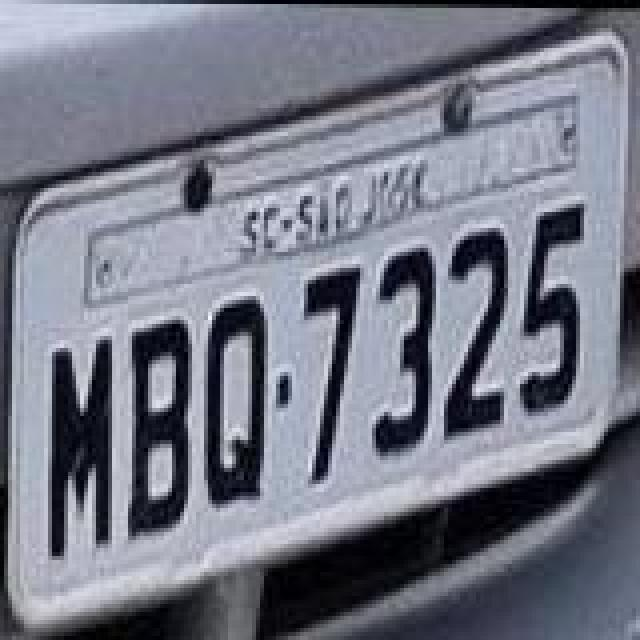2: (440, 226, 512, 442)
3: (368, 236, 440, 460)
5: (516, 192, 588, 412)
7: (304, 256, 368, 488)
B: (126, 310, 194, 542)
M: (46, 330, 114, 566)
Q: (200, 292, 272, 512)
